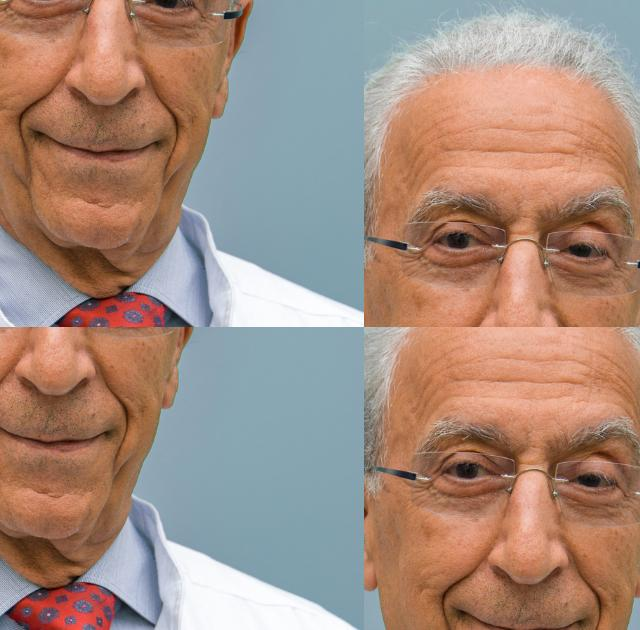chin: (119, 210, 198, 290), (25, 194, 81, 252)
crows_feet: (409, 480, 436, 510), (620, 488, 638, 520)
forehead: (468, 356, 590, 404), (602, 356, 640, 416), (419, 356, 447, 412), (590, 63, 634, 90)
frown_line: (516, 447, 546, 472)
gummy_smile: (189, 74, 239, 190), (481, 198, 517, 260), (439, 552, 483, 600), (37, 48, 74, 101), (570, 555, 604, 612), (594, 218, 616, 268)
sad_smile: (191, 238, 225, 314), (471, 265, 489, 307), (432, 604, 460, 630)
